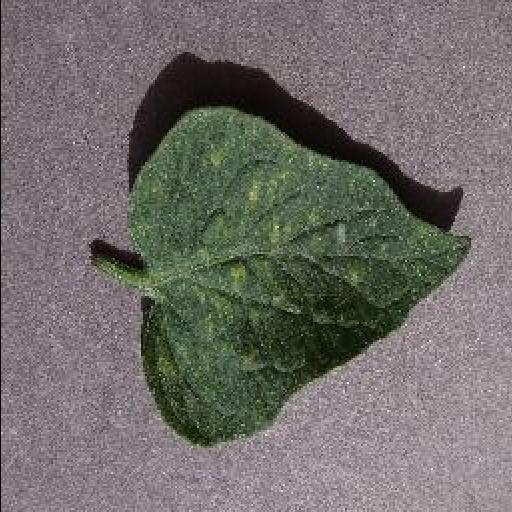disease_tomato: (132, 110, 470, 446)
